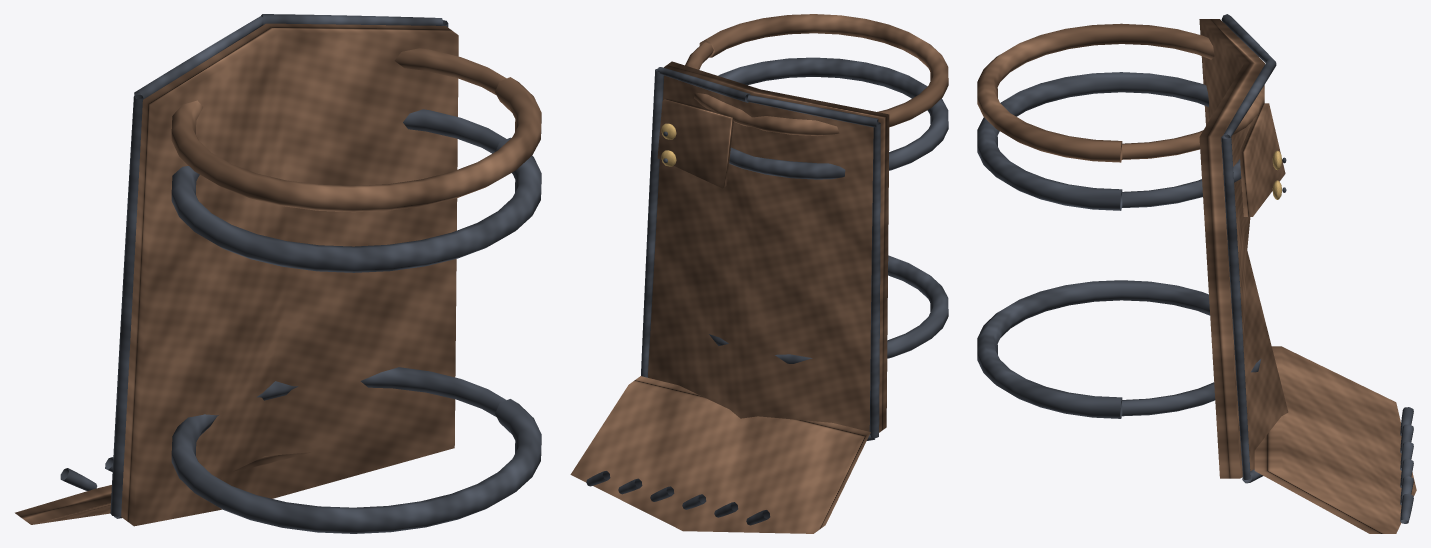
The model's file is outfit_boot.glb.
3 views of the same model, side by side, from view 1: azimuth 30°, elevation 25°; view 2: azimuth 150°, elevation 25°; view 3: azimuth 270°, elevation 25° (orthographic). The views are drawn at different scales.
Parts seen in each view (by area): view 1: outfit_boot; view 2: outfit_boot; view 3: outfit_boot.
Boxes of the visible parts, bbox=[...] form: outfit_boot: bbox=[15, 14, 541, 533]; outfit_boot: bbox=[570, 14, 948, 533]; outfit_boot: bbox=[977, 14, 1416, 533].
Size of the model in its own units: 0.76 by 1.16 by 1.07.
3 materials, 3 textured.
